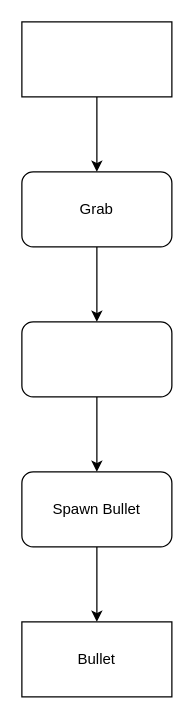
This 194x719 diagram has some shape labels left out. Here are the shapes that lost their labels. From the top down, the centre of each, then its label:
(x=96, y=59): Revolver
(x=96, y=359): Shoot
